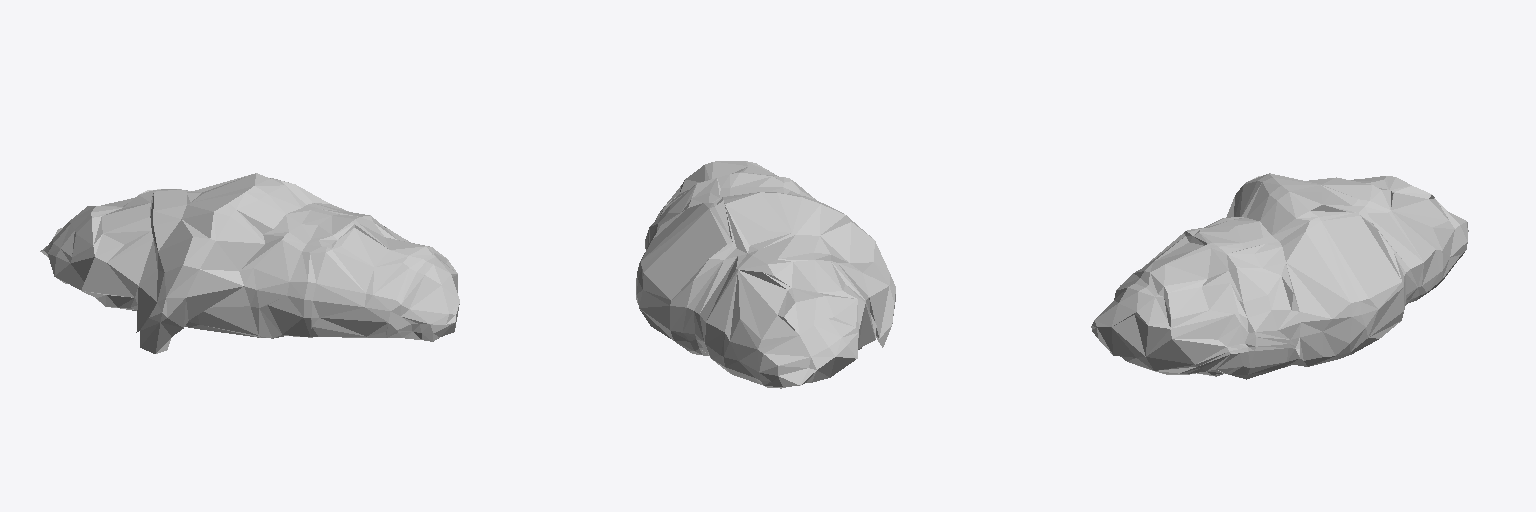
File: pan3.obj
3 renders of one model, left to right at view 1: azimuth 30°, elevation 25°; view 2: azimuth 150°, elevation 25°; view 3: azimuth 270°, elevation 25°, orthographic.
Visible parts, largest first — view 1: pasted__pasted__pasted__pasted__pasted__pasted__pasted__polySurf; view 2: pasted__pasted__pasted__pasted__pasted__pasted__pasted__polySurf; view 3: pasted__pasted__pasted__pasted__pasted__pasted__pasted__polySurf.
Part boxes in pixels (bbox=[...]): pasted__pasted__pasted__pasted__pasted__pasted__pasted__polySurf: bbox=[40, 173, 459, 353]; pasted__pasted__pasted__pasted__pasted__pasted__pasted__polySurf: bbox=[636, 161, 895, 388]; pasted__pasted__pasted__pasted__pasted__pasted__pasted__polySurf: bbox=[1091, 173, 1468, 379].
Bounding box in the file's own units: 0.1394 × 0.0605 × 0.1564.